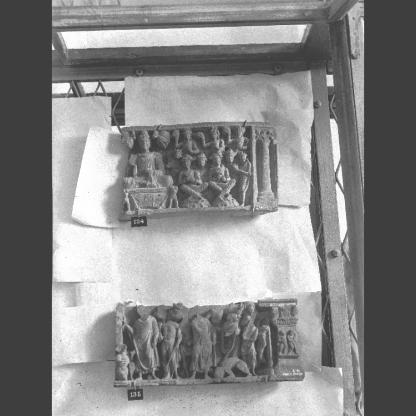buddha-sitting: (120, 130, 179, 191)
buddha-standing: (187, 304, 220, 380)
